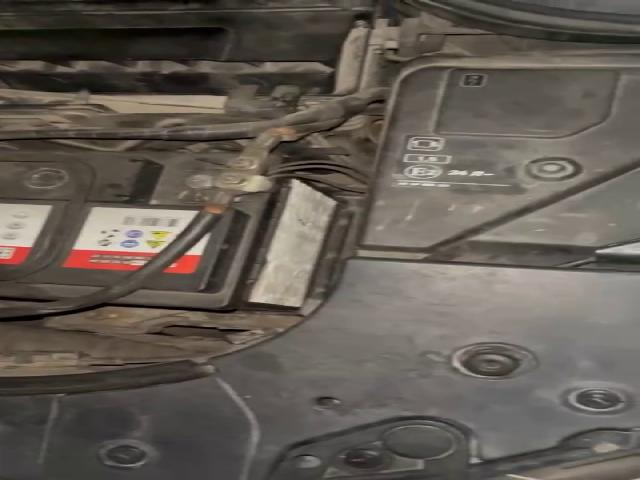accumulator: (2, 151, 339, 312)
fuse_box: (357, 55, 640, 269)
